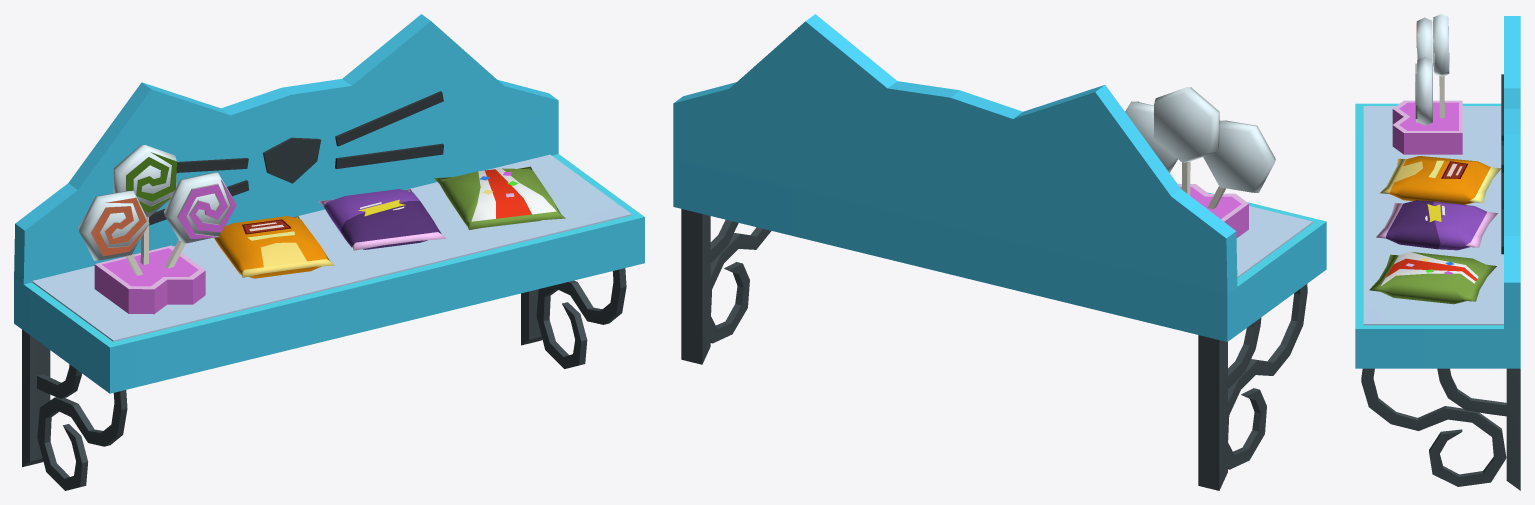
The model's file is Gia keo 1.004.gltf.
The picture shows the model from 3 angles, left to right: view 1: azimuth 30°, elevation 25°; view 2: azimuth 150°, elevation 25°; view 3: azimuth 270°, elevation 25°; orthographic projection. The views are drawn at different scales.
Parts seen in each view (by area): view 1: Gia keo 1.004; view 2: Gia keo 1.004; view 3: Gia keo 1.004.
Boxes of the visible parts, box(x1,y1,x2,y2) form: Gia keo 1.004: box(14, 14, 644, 490); Gia keo 1.004: box(673, 14, 1326, 490); Gia keo 1.004: box(1355, 14, 1520, 490).
Size of the model in its own units: 6.99 by 4.44 by 2.17.
1 material, 1 textured.
